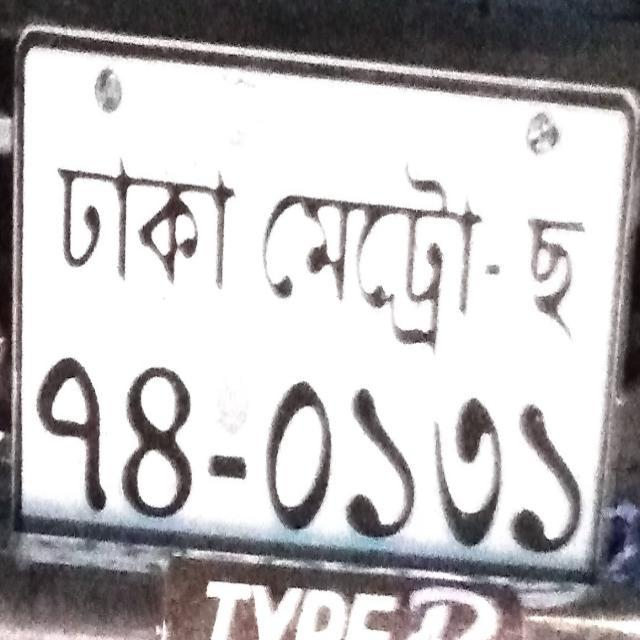numberplate: (6, 21, 638, 602)
